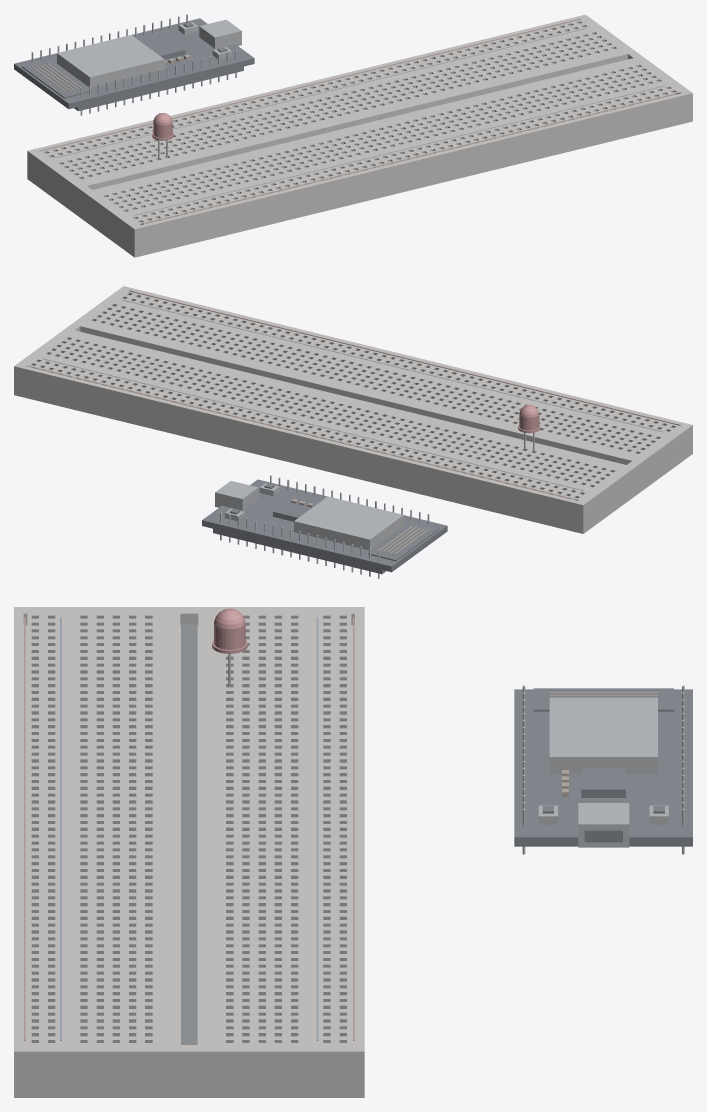
The model's file is step-3.glb.
3 views of the same model, one above another, from view 1: azimuth 30°, elevation 25°; view 2: azimuth 150°, elevation 25°; view 3: azimuth 270°, elevation 25° (orthographic). The views are drawn at different scales.
Parts seen in each view (by area): view 1: breadboard__mesh, uno__mesh, led_red__mesh; view 2: breadboard__mesh, uno__mesh, led_red__mesh; view 3: breadboard__mesh, uno__mesh, led_red__mesh.
Boxes of the visible parts, bbox=[...] form: breadboard__mesh: bbox=[27, 14, 692, 257]; uno__mesh: bbox=[14, 14, 254, 115]; led_red__mesh: bbox=[152, 113, 173, 159]; breadboard__mesh: bbox=[14, 286, 692, 533]; uno__mesh: bbox=[202, 475, 447, 578]; led_red__mesh: bbox=[518, 405, 540, 452]; breadboard__mesh: bbox=[14, 607, 364, 1097]; uno__mesh: bbox=[514, 685, 692, 854]; led_red__mesh: bbox=[212, 608, 247, 686].
Bounding box in the file's own units: 0.165 × 0.0205 × 0.1065.
